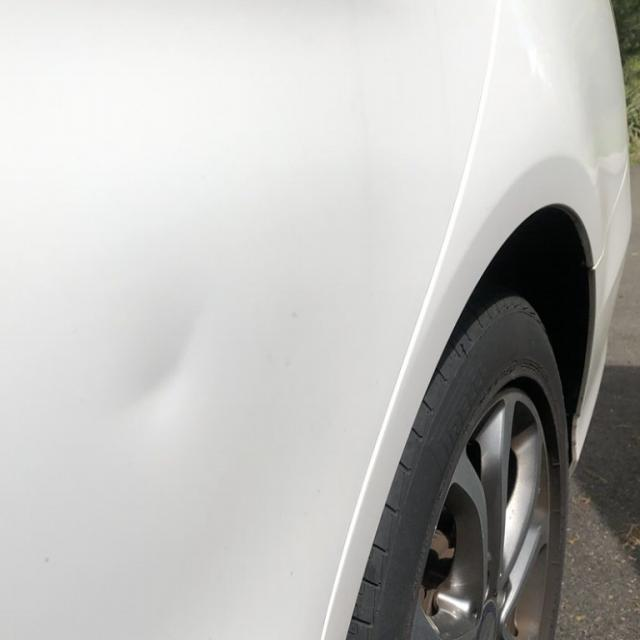dents: (82, 315, 244, 421)
